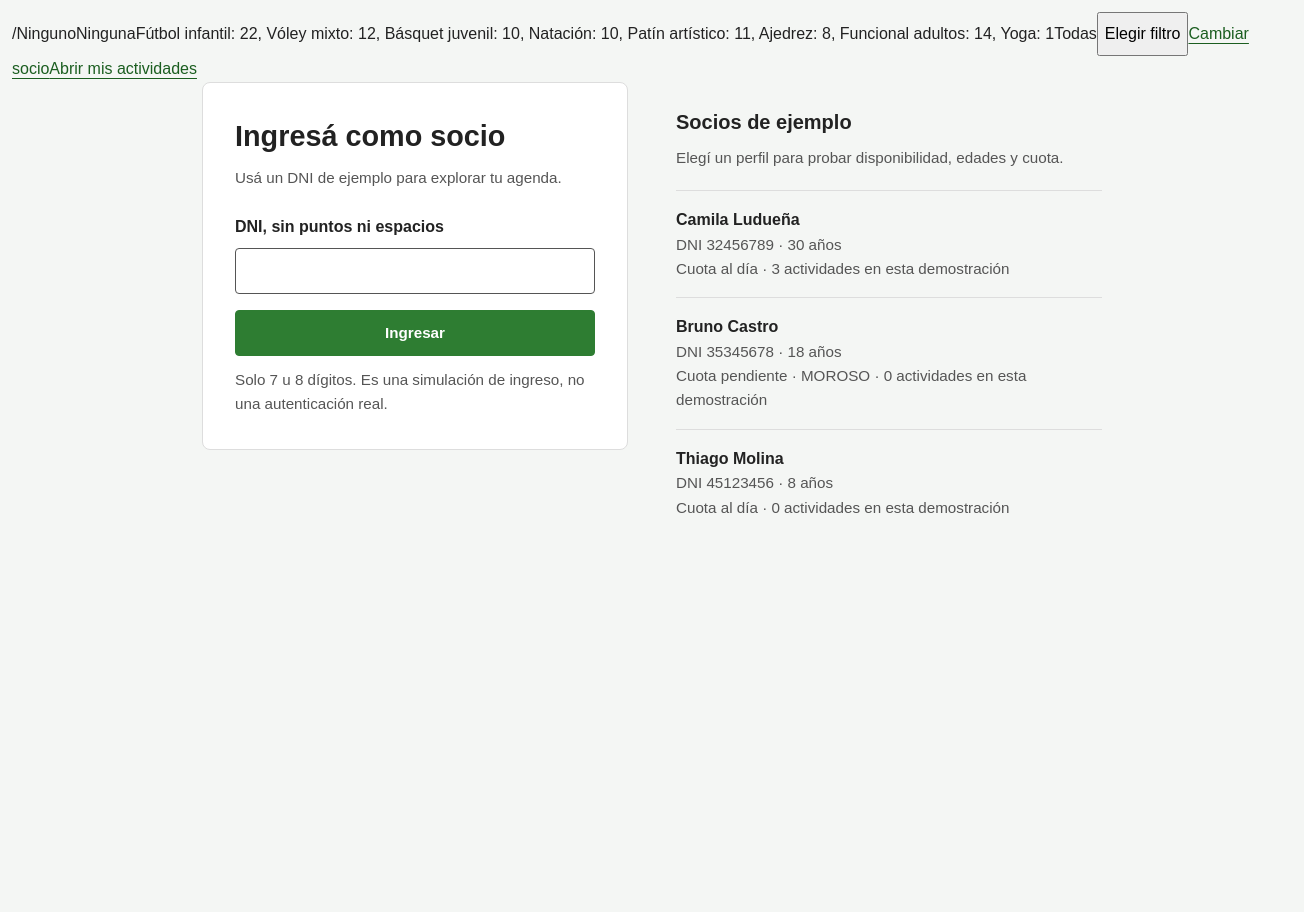
Scenario: Ingreso local por DNI › returns to the local requested pathname /mis-actividades after selection
Step 1. Type "32456789" into the field labelled "DNI, sin puntos ni espacios" → (415, 271), box [235,248,595,294]
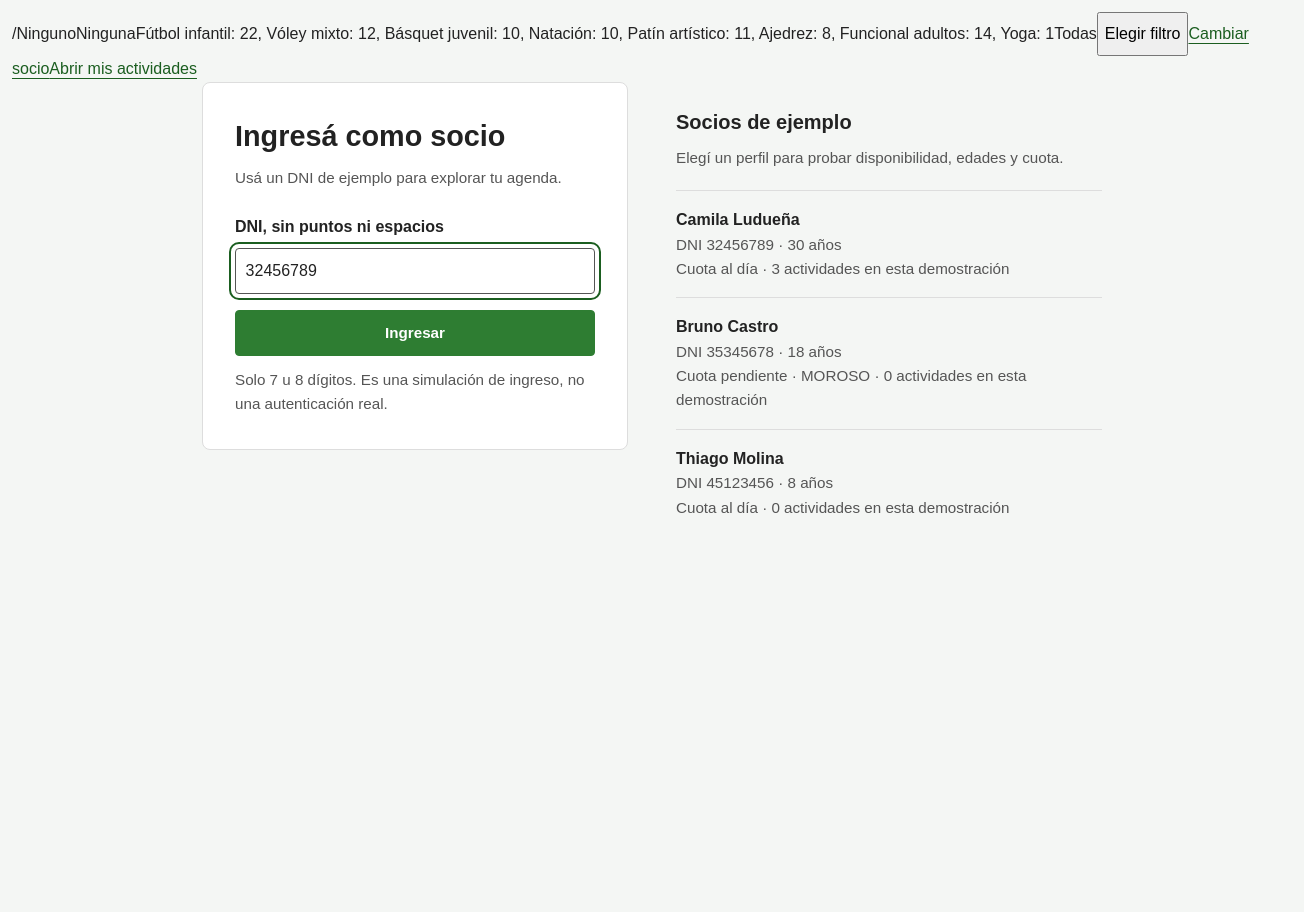
Step 2. Click the button "Ingresar" → (415, 333), box [235,310,595,356]
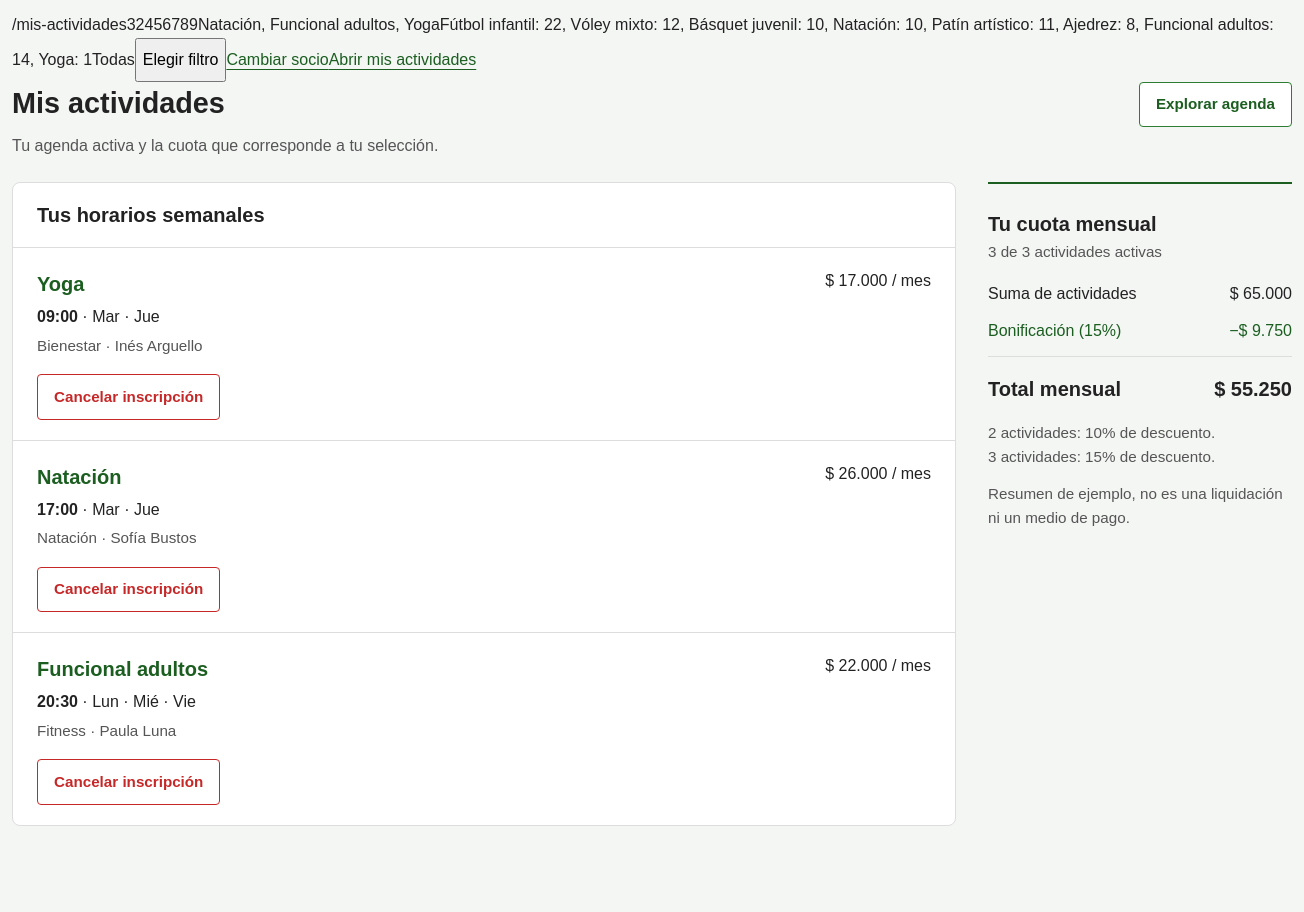
Expected: the text named "Ruta actual" reads "/mis-actividades", [12,16,127,33]
